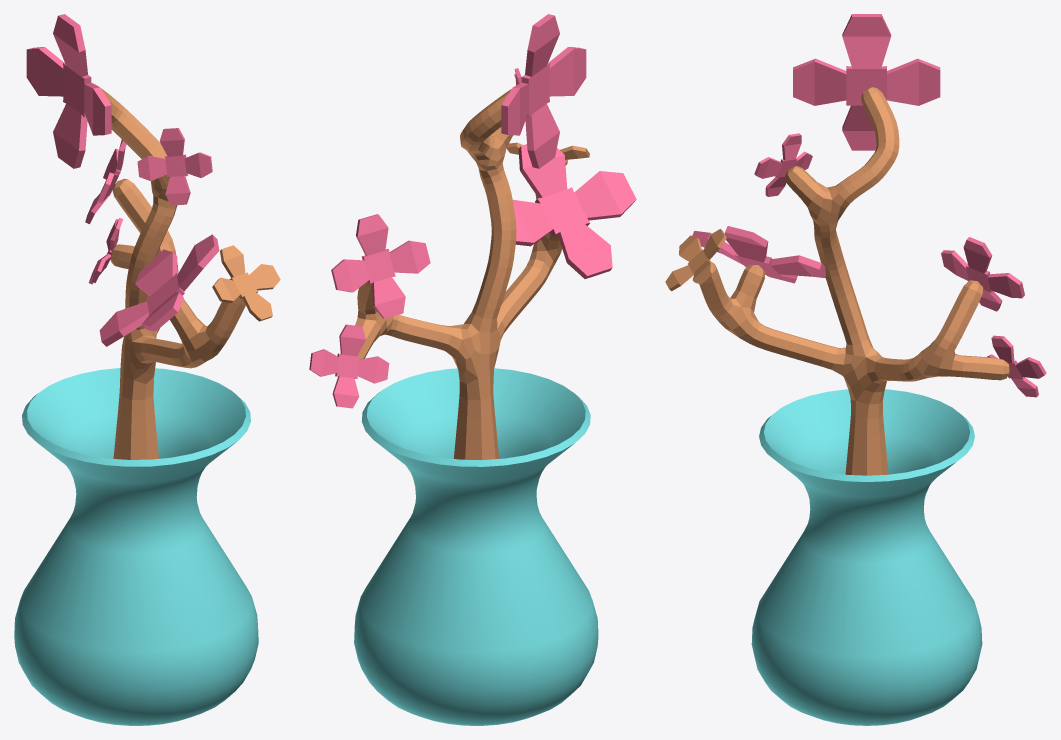
Rendered from florero.fbx.
The picture shows the model from 3 angles, left to right: view 1: azimuth 30°, elevation 25°; view 2: azimuth 150°, elevation 25°; view 3: azimuth 270°, elevation 25°; orthographic projection. The views are drawn at different scales.
Parts seen in each view (by area): view 1: Cylinder.007; view 2: Cylinder.007; view 3: Cylinder.007.
Part boxes in pixels (left/top/right/bottom): Cylinder.007: left=14, top=14, right=280, bottom=725; Cylinder.007: left=309, top=14, right=636, bottom=725; Cylinder.007: left=665, top=14, right=1046, bottom=725.
Size of the model in its own units: 31.74 by 99.27 by 52.51.
